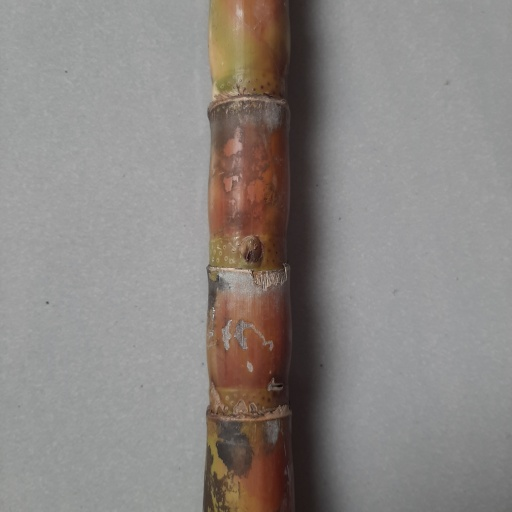Bud: (238, 235, 263, 265)
